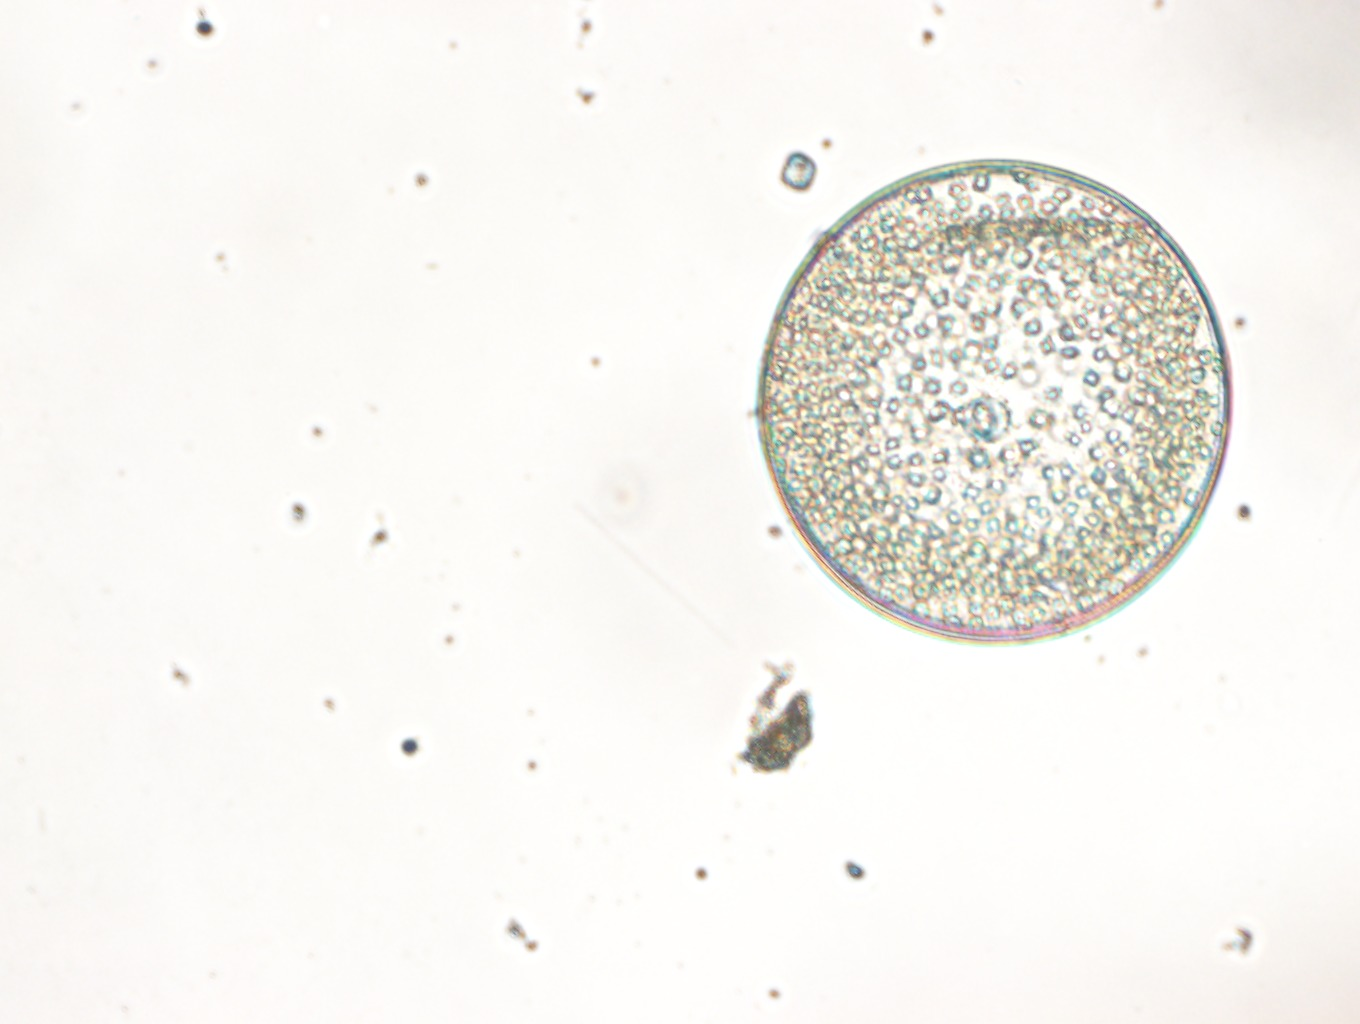coscinodiscus: (749, 158, 1248, 645)
